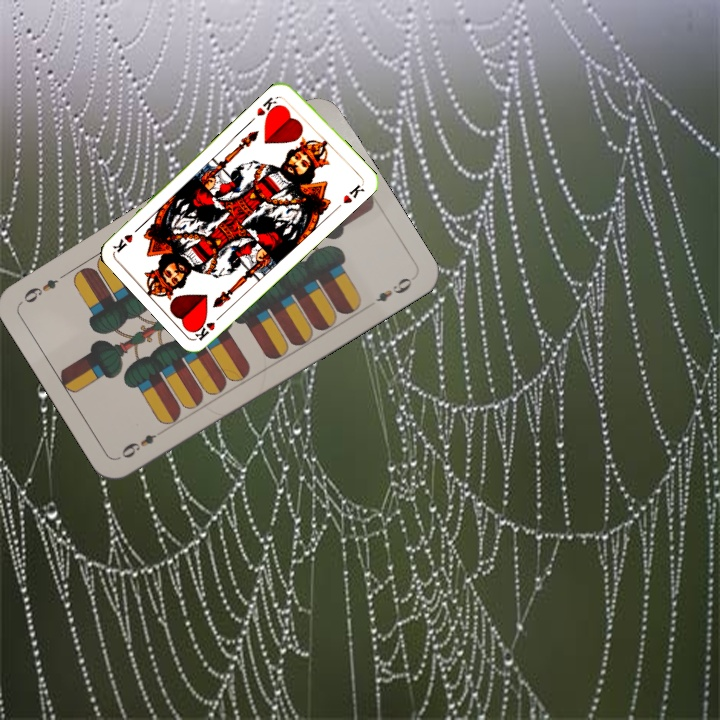E9: (117, 430, 159, 461)
HK: (190, 309, 227, 343), (252, 92, 283, 122)
